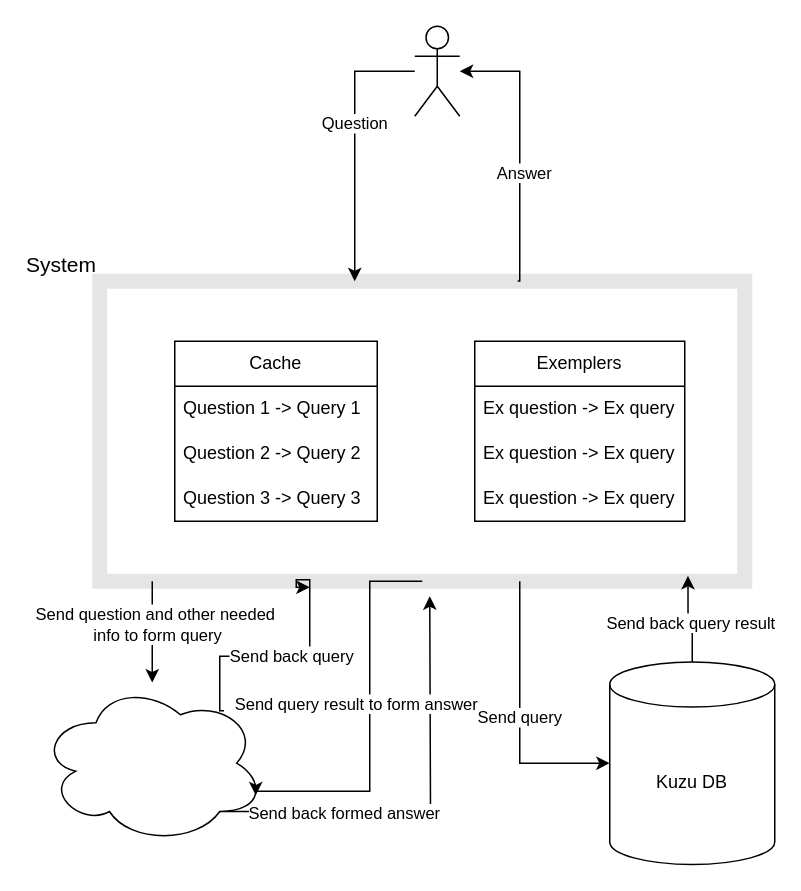
This 801x891 diagram has some shape labels left out. The shapes that lost their labels are listed below. From the top down, each one's centre as x and y in pixels, then its label:
At (x=436, y=70): "User".
At (x=151, y=762): "LLM".
